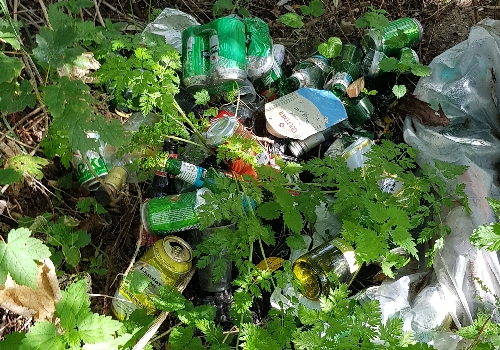trash: (68, 13, 446, 312)
